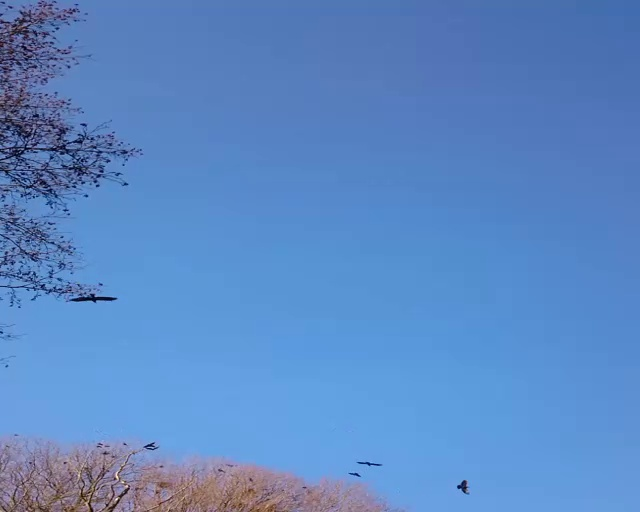BIRD: (456, 479, 469, 494)
